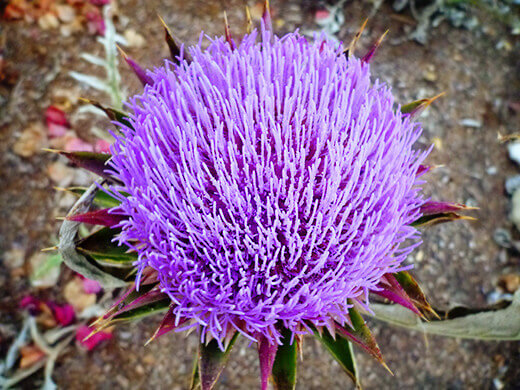thistle: (108, 13, 471, 369)
